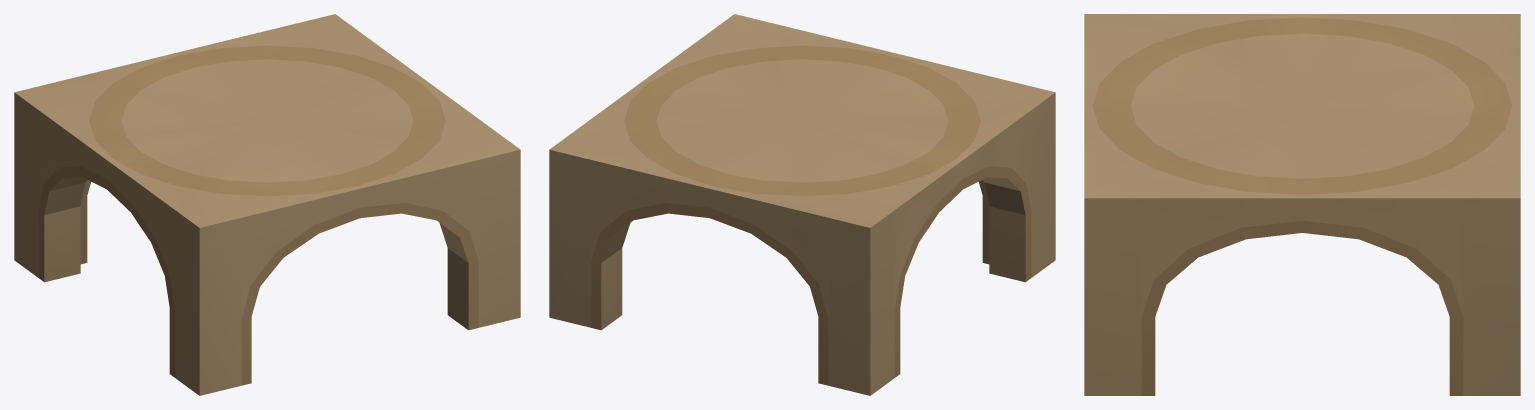
File: dome.arch_4way.sandstone.glb
3 renders of one model, left to right at view 1: azimuth 30°, elevation 25°; view 2: azimuth 150°, elevation 25°; view 3: azimuth 270°, elevation 25°, orthographic. The views are drawn at different scales.
Parts seen in each view (by area): view 1: dome_arch_4way_sandstone; view 2: dome_arch_4way_sandstone; view 3: dome_arch_4way_sandstone.
Part boxes in pixels (x1=…): dome_arch_4way_sandstone: x1=14, y1=14, x2=520, y2=395; dome_arch_4way_sandstone: x1=549, y1=14, x2=1055, y2=395; dome_arch_4way_sandstone: x1=1084, y1=14, x2=1520, y2=395.
Size of what is drawn, in the model's own units: 8 by 4 by 8.
